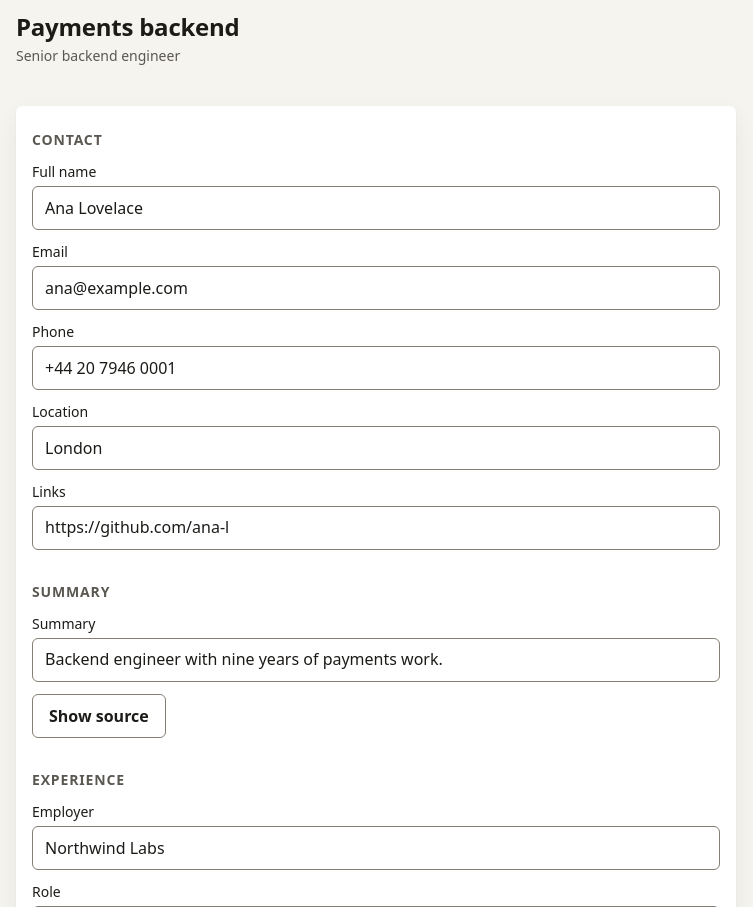
Test: CV editor — edit in place (F-006 "every field the generator can write") › shows the server field message under the field when a PATCH answers 400 VALIDATION (error case)
Replace the text in the field labelled "Email" with "not-an-email": (376, 288) [32,266,720,310]
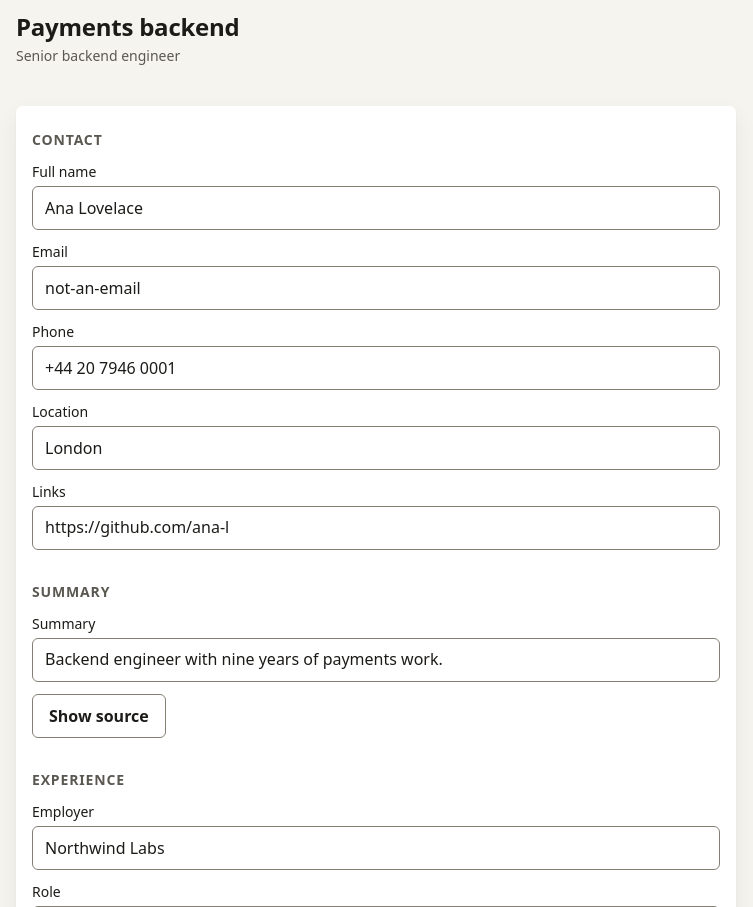
Leave the field labelled "Email", box [32,266,720,310]
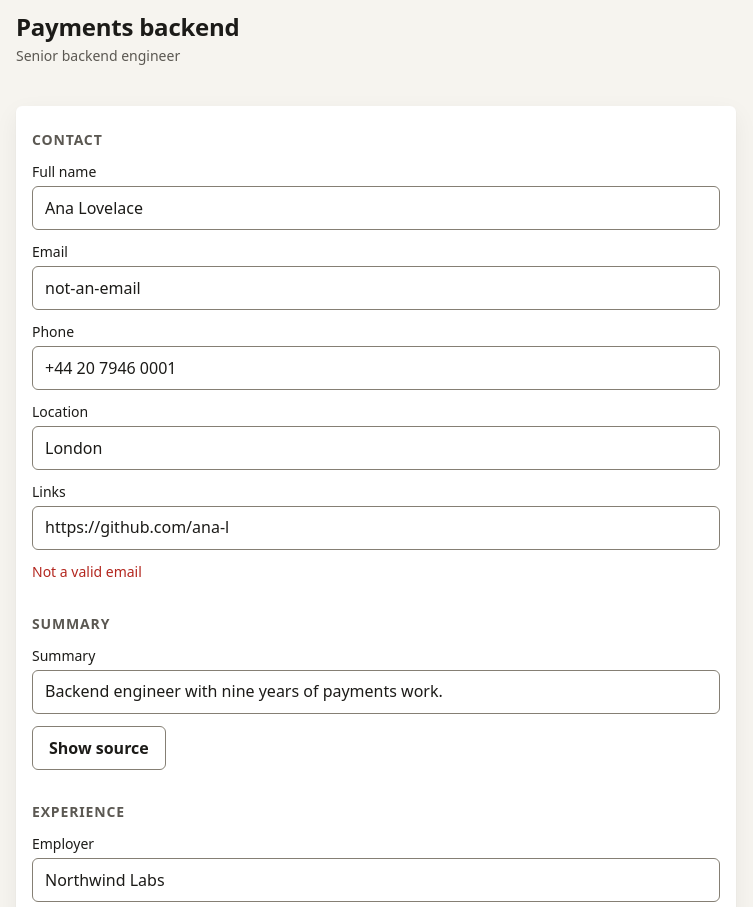
Expected: the text "Not a valid email" is shown, [32,562,142,581]
